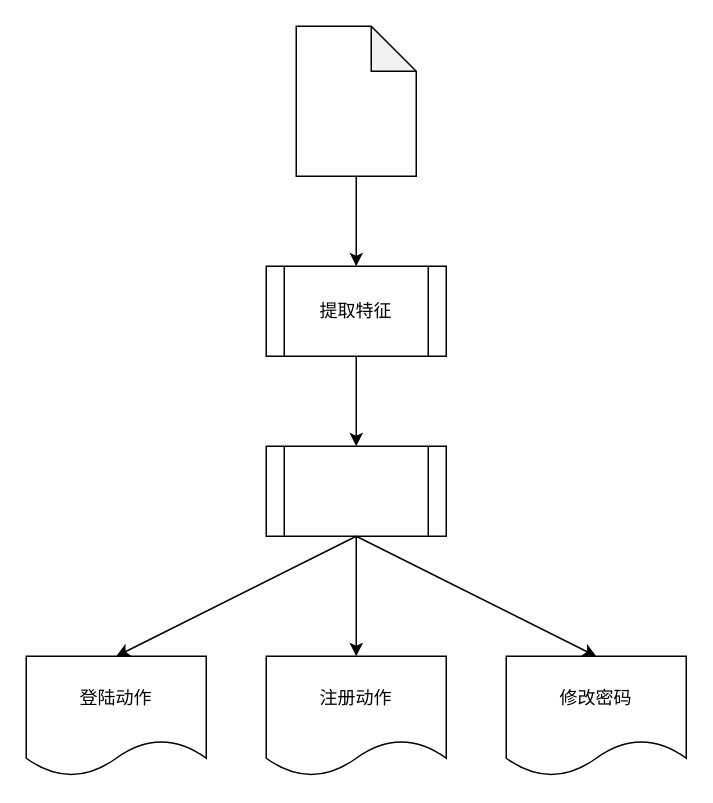
Some shapes in this 713 by 803 pixel diagram are drawn without their labels. Here are the shapes that lost their labels. From the top down, the box of each, then its label:
(295, 25, 416, 176): 明文数据流
(265, 445, 446, 536): 分类
